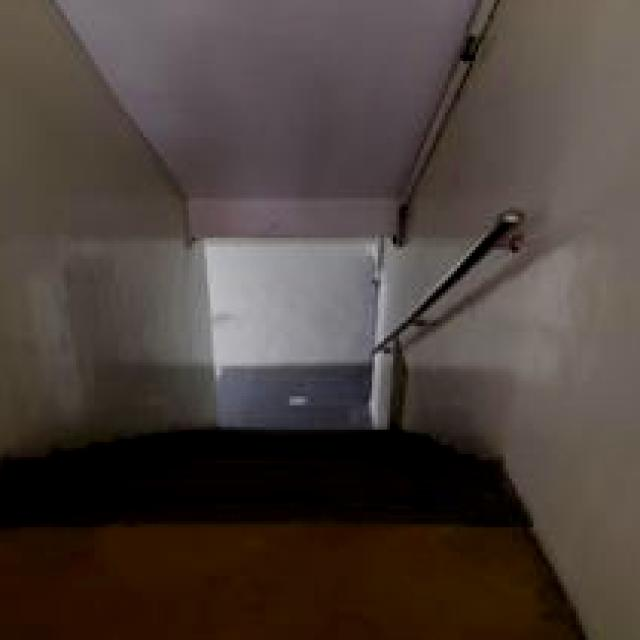downstair: (120, 385, 376, 516)
